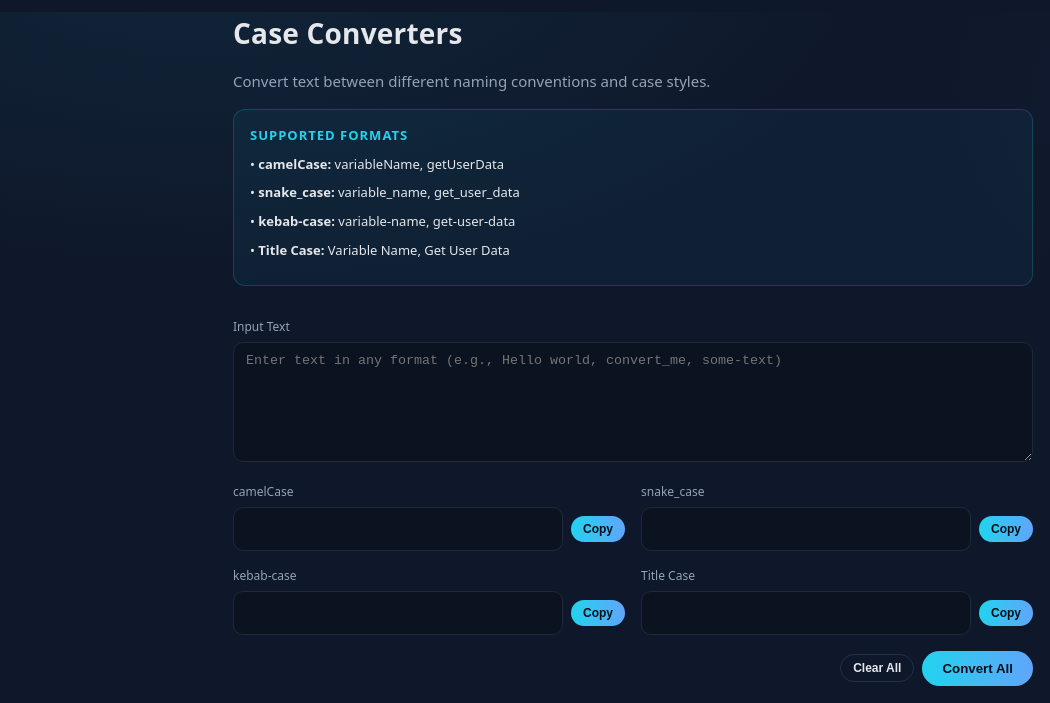
Test: CaseConverter › clears all fields
The image size is (1050, 703).
Replace the text in the text box labelled "Input Text" with "test" at (633, 402), box [233,342,1033,462]
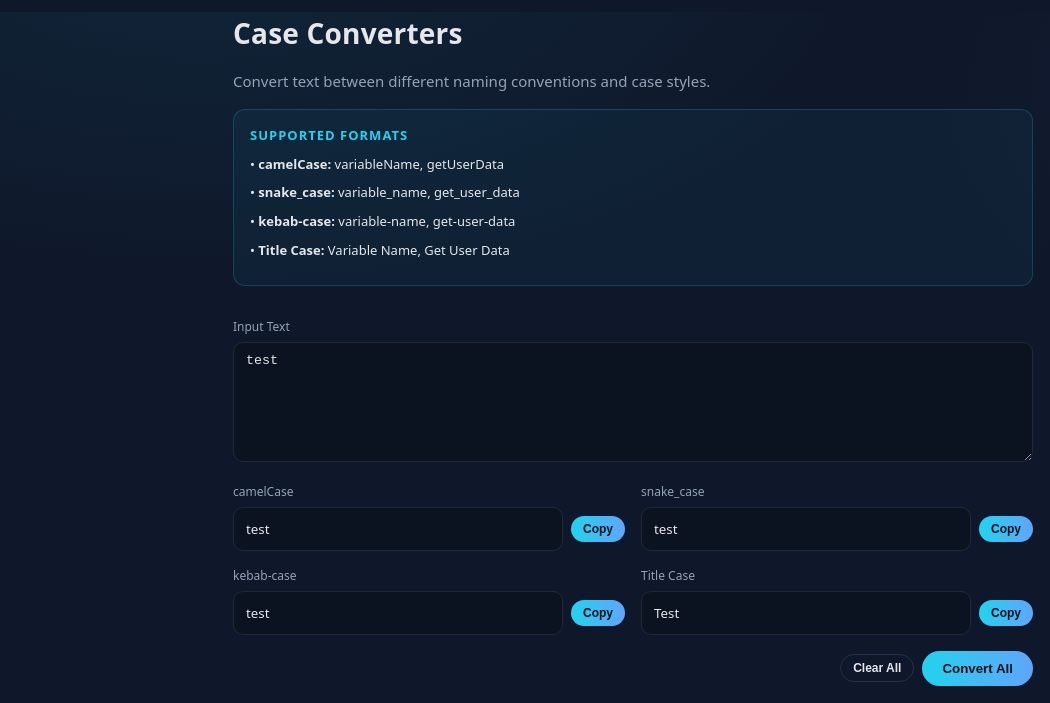
Click the button "Clear All".
click(877, 668)  # box [840,654,914,682]
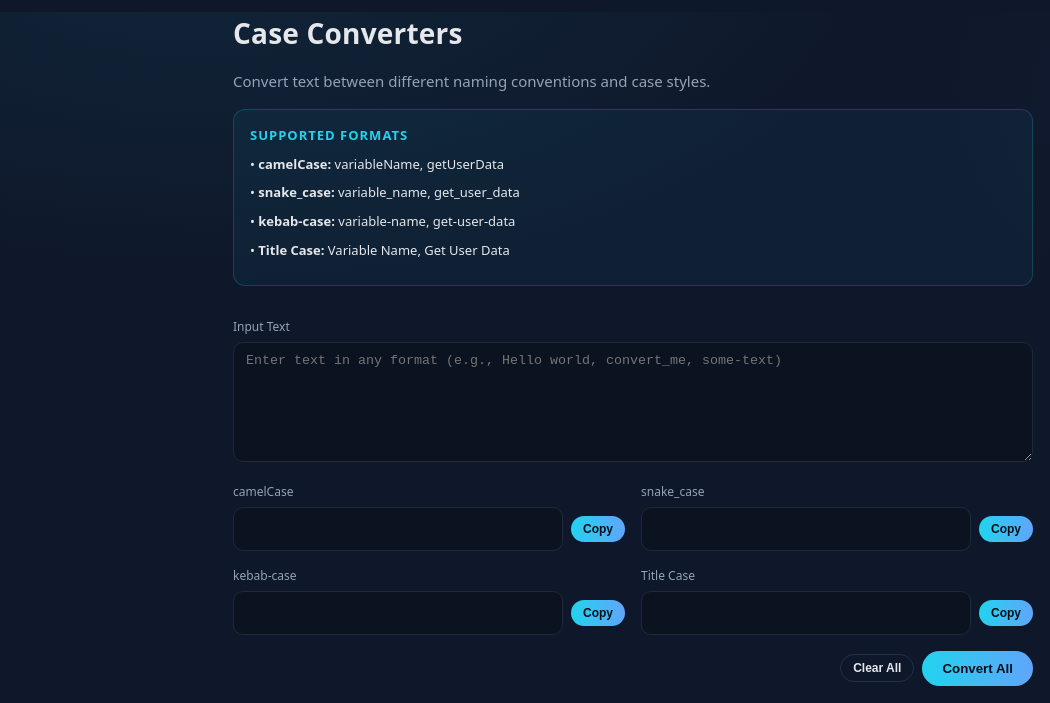
Check: the text box labelled "Input Text" is empty, box [233,342,1033,462]
